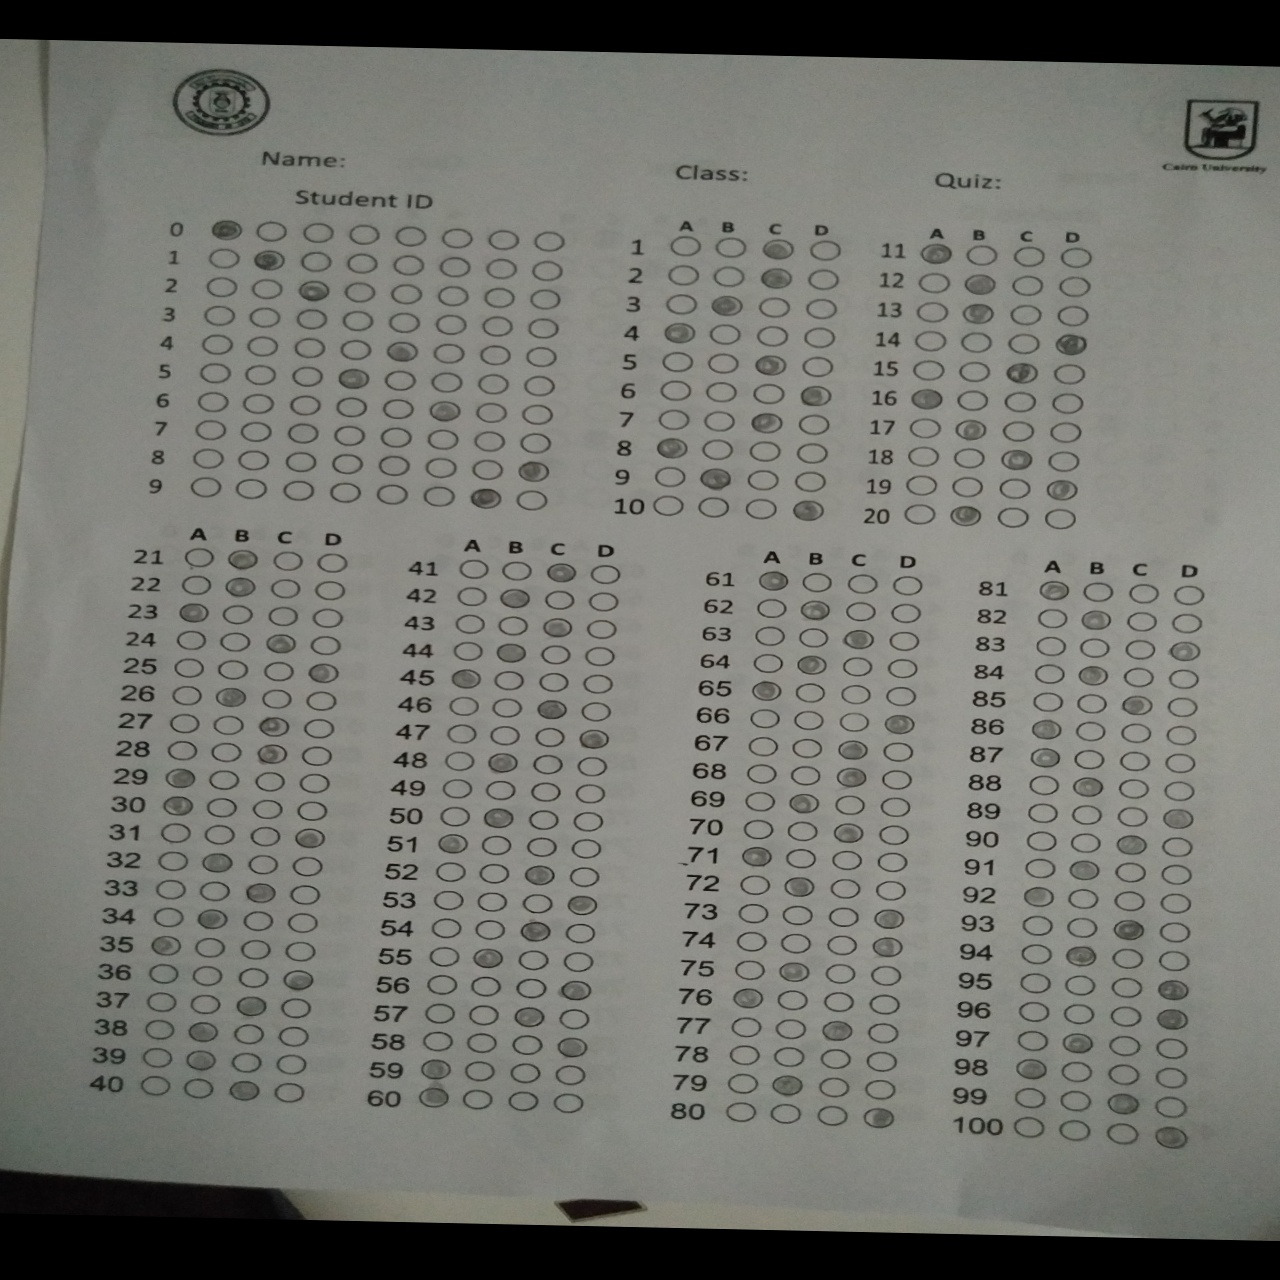not-c: (309, 551, 349, 576), (576, 700, 615, 724), (1056, 1088, 1094, 1114), (246, 275, 285, 300), (433, 284, 471, 308), (806, 237, 845, 261), (654, 407, 693, 431), (694, 493, 733, 518), (1053, 304, 1091, 328), (421, 456, 459, 481), (472, 372, 511, 396), (489, 667, 527, 692), (794, 625, 832, 649), (796, 571, 835, 595), (455, 556, 493, 580), (258, 659, 297, 683), (215, 629, 253, 654), (263, 604, 301, 628), (200, 275, 240, 299), (529, 229, 568, 252), (479, 285, 517, 309), (663, 292, 701, 316), (665, 263, 702, 287), (708, 264, 745, 288), (295, 250, 333, 274), (390, 224, 428, 248), (658, 379, 695, 403), (792, 441, 830, 465), (795, 411, 832, 436), (995, 476, 1033, 501), (949, 445, 987, 470), (1046, 420, 1083, 444), (1012, 243, 1049, 267), (962, 241, 1000, 266), (325, 481, 362, 505), (374, 482, 411, 506), (188, 475, 225, 499), (422, 428, 459, 452), (375, 427, 413, 451), (477, 313, 515, 338), (433, 312, 470, 336), (198, 332, 236, 356), (580, 644, 618, 668), (844, 571, 881, 595), (384, 311, 423, 334), (200, 304, 239, 327), (386, 281, 424, 305), (803, 267, 842, 291), (713, 236, 751, 259), (482, 257, 520, 280), (388, 253, 427, 277), (203, 246, 241, 270), (345, 222, 383, 245), (701, 409, 740, 433), (743, 440, 782, 463), (743, 468, 782, 491), (748, 382, 787, 406), (754, 324, 792, 347), (802, 297, 840, 320), (1005, 332, 1043, 355), (956, 331, 995, 354), (704, 350, 743, 374), (706, 322, 744, 346), (190, 447, 229, 470), (331, 425, 369, 449), (282, 422, 321, 445), (190, 417, 229, 441), (333, 395, 372, 418), (468, 457, 506, 481), (516, 431, 554, 455), (427, 369, 465, 393), (380, 368, 418, 392), (522, 345, 560, 368), (476, 343, 515, 367), (334, 338, 373, 361), (537, 642, 576, 666), (584, 590, 622, 613), (451, 584, 490, 607), (170, 655, 209, 679), (305, 634, 343, 658), (307, 606, 346, 629), (312, 579, 350, 602), (268, 549, 307, 572), (949, 475, 986, 499), (433, 256, 472, 278), (340, 252, 377, 275), (701, 381, 738, 404), (742, 497, 779, 520), (790, 470, 828, 493), (801, 326, 838, 349), (903, 503, 940, 526), (1042, 506, 1080, 530), (903, 444, 940, 468), (906, 416, 944, 440), (998, 420, 1035, 443), (1049, 392, 1087, 415), (1048, 363, 1085, 387), (1007, 302, 1044, 326), (913, 300, 951, 324), (1058, 245, 1096, 268), (915, 271, 953, 294), (524, 316, 561, 340), (279, 478, 316, 502), (422, 1001, 459, 1024), (375, 454, 413, 477), (234, 448, 272, 471), (236, 420, 273, 443), (238, 393, 275, 416), (286, 394, 324, 417), (195, 361, 232, 384), (519, 402, 557, 425), (472, 401, 510, 424), (519, 374, 557, 397), (429, 341, 467, 365), (244, 334, 281, 358), (536, 670, 573, 694), (580, 672, 618, 695), (583, 618, 620, 641), (885, 629, 922, 653), (886, 601, 924, 625), (840, 599, 878, 622), (587, 561, 625, 585), (497, 559, 535, 583), (219, 602, 257, 626), (267, 577, 305, 600), (251, 770, 288, 794), (572, 756, 610, 779), (441, 749, 478, 772), (503, 1089, 540, 1112), (564, 864, 601, 887), (149, 905, 186, 928), (282, 911, 320, 934), (813, 1075, 851, 1098), (864, 1022, 901, 1046), (659, 350, 697, 373), (335, 309, 374, 332), (290, 308, 328, 331), (244, 306, 282, 328), (482, 229, 520, 251), (297, 220, 335, 243), (697, 438, 736, 461), (797, 355, 836, 377), (903, 474, 941, 496), (911, 329, 949, 352), (326, 452, 365, 475), (420, 485, 458, 508), (239, 362, 278, 384), (447, 639, 485, 661), (177, 574, 216, 597), (178, 546, 217, 568), (651, 465, 687, 489), (1002, 390, 1039, 414), (751, 624, 788, 647), (281, 449, 318, 472), (195, 390, 231, 414), (471, 429, 508, 452), (542, 587, 578, 611), (450, 612, 486, 635), (200, 823, 237, 846), (158, 821, 195, 844), (163, 738, 199, 762), (568, 810, 605, 833), (444, 721, 481, 744), (509, 1033, 545, 1056), (462, 1058, 498, 1082), (508, 1062, 544, 1085), (556, 1008, 592, 1032), (559, 949, 595, 973), (471, 918, 508, 941), (428, 915, 464, 939), (137, 1074, 173, 1097), (139, 1017, 176, 1041), (189, 964, 225, 987), (195, 879, 231, 903), (151, 877, 188, 900), (1109, 1005, 1145, 1028), (1010, 1116, 1047, 1139), (765, 1101, 802, 1124), (728, 1015, 764, 1039), (1022, 830, 1058, 853), (1068, 803, 1104, 826), (878, 768, 914, 791), (743, 762, 779, 785), (1073, 748, 1109, 771), (1027, 772, 1063, 796), (874, 824, 911, 847), (1157, 863, 1193, 886), (1061, 974, 1097, 998), (823, 905, 859, 928), (1165, 667, 1201, 690), (1121, 665, 1157, 688), (1124, 610, 1160, 633), (1034, 606, 1070, 629), (340, 280, 377, 302), (525, 287, 563, 309), (527, 260, 565, 282), (649, 493, 687, 516), (756, 297, 794, 319), (994, 505, 1032, 527), (1044, 450, 1082, 472), (910, 360, 947, 382), (955, 361, 993, 383), (1008, 274, 1046, 297), (231, 478, 268, 501), (287, 363, 325, 386), (379, 397, 416, 420), (511, 489, 549, 511), (287, 336, 325, 359), (888, 576, 926, 598), (753, 597, 790, 619), (492, 614, 530, 636), (213, 658, 251, 680), (172, 628, 210, 651), (292, 799, 329, 822), (522, 835, 559, 857), (570, 783, 607, 805), (530, 726, 567, 748), (169, 685, 206, 707), (418, 1030, 456, 1053), (475, 862, 512, 884), (143, 990, 181, 1013), (277, 996, 314, 1019), (236, 938, 273, 960), (285, 884, 322, 906), (1013, 1029, 1050, 1051), (865, 993, 903, 1015), (733, 930, 770, 952), (830, 794, 867, 816), (1156, 921, 1193, 944), (1020, 914, 1057, 937), (206, 768, 241, 791), (526, 808, 561, 831), (437, 804, 472, 828), (209, 714, 244, 737), (459, 1087, 495, 1110), (272, 1051, 307, 1075), (234, 966, 270, 989), (240, 908, 275, 932), (424, 973, 459, 996), (1016, 1000, 1051, 1023), (1153, 1065, 1189, 1089), (1153, 1095, 1189, 1118), (1058, 1060, 1094, 1083), (864, 1049, 899, 1073), (867, 964, 903, 987), (776, 932, 811, 955), (748, 707, 783, 730), (745, 734, 781, 757), (1118, 722, 1153, 745), (1073, 721, 1108, 744), (742, 789, 777, 812), (828, 847, 863, 871), (873, 879, 908, 903), (1114, 888, 1149, 912), (1111, 947, 1146, 971), (828, 877, 863, 900), (1166, 611, 1201, 634), (1033, 634, 1068, 658), (668, 234, 704, 257), (438, 226, 475, 248), (954, 389, 990, 411), (246, 825, 282, 847), (248, 798, 285, 821), (207, 741, 244, 763), (477, 833, 513, 856), (483, 779, 519, 802), (527, 753, 564, 775), (485, 724, 522, 747), (489, 696, 525, 719), (299, 716, 335, 738), (256, 688, 292, 710), (467, 975, 503, 998), (462, 1032, 498, 1054), (552, 1064, 588, 1087), (549, 1091, 585, 1114), (425, 945, 462, 967), (561, 922, 598, 945), (518, 891, 554, 913), (474, 890, 510, 912), (430, 860, 467, 883), (178, 1077, 215, 1099), (271, 1081, 307, 1103), (139, 1046, 176, 1068), (229, 1023, 265, 1046), (185, 993, 222, 1015), (280, 940, 316, 962), (191, 937, 227, 959), (154, 850, 190, 872), (290, 855, 326, 877), (1021, 857, 1057, 879), (1107, 1063, 1143, 1085), (1012, 1085, 1048, 1108), (862, 1078, 898, 1101), (817, 1047, 853, 1069), (819, 990, 856, 1013), (822, 962, 858, 985), (823, 934, 859, 956), (723, 1101, 760, 1123), (791, 709, 828, 731), (877, 796, 913, 818), (879, 741, 915, 763), (1117, 805, 1153, 828), (1116, 750, 1152, 772), (1159, 779, 1196, 802), (742, 818, 778, 840), (1017, 942, 1054, 965), (1153, 949, 1190, 972), (1109, 978, 1145, 1000), (782, 847, 818, 870), (838, 655, 874, 678), (1075, 692, 1111, 714), (1165, 695, 1201, 717), (1121, 636, 1157, 659), (1124, 581, 1160, 604), (835, 709, 871, 731), (881, 685, 918, 707), (885, 658, 921, 680), (275, 1024, 309, 1048), (1017, 972, 1051, 995), (748, 651, 785, 672), (203, 797, 238, 819), (297, 772, 332, 795), (567, 836, 602, 858), (527, 781, 563, 803), (445, 694, 481, 716), (166, 712, 202, 734), (467, 1003, 502, 1026), (516, 948, 551, 971), (430, 888, 465, 911), (229, 1050, 264, 1073), (145, 962, 181, 985), (1063, 1003, 1098, 1026), (1107, 1034, 1142, 1056), (1058, 1121, 1094, 1143), (1104, 1123, 1139, 1145), (813, 1104, 849, 1126), (771, 1017, 806, 1040), (775, 989, 810, 1012), (731, 959, 767, 981), (727, 1044, 762, 1067), (726, 1071, 761, 1094), (1065, 832, 1101, 855), (1163, 726, 1198, 748), (1115, 778, 1150, 801), (783, 821, 818, 843), (873, 851, 908, 873), (1159, 837, 1194, 859), (1065, 888, 1101, 911), (1158, 893, 1193, 915), (1063, 915, 1098, 938), (779, 904, 815, 926), (737, 873, 772, 896), (1032, 662, 1067, 685), (1170, 584, 1205, 606), (1081, 580, 1116, 602), (790, 682, 825, 704), (253, 222, 290, 243), (1056, 275, 1092, 297), (299, 744, 335, 765), (512, 978, 549, 999), (245, 853, 281, 874), (1029, 690, 1065, 712), (736, 903, 772, 924), (1075, 636, 1111, 658), (440, 777, 474, 799), (1155, 1036, 1189, 1058), (1024, 802, 1058, 824), (1160, 750, 1194, 772), (787, 764, 821, 787), (1114, 862, 1148, 884), (302, 690, 338, 712), (771, 1046, 806, 1067), (787, 738, 822, 760), (838, 685, 873, 706)
taken-c: (747, 679, 784, 704), (869, 906, 907, 931), (1020, 883, 1056, 908), (520, 862, 557, 887), (761, 237, 798, 261), (384, 340, 422, 365), (755, 568, 792, 593), (788, 498, 825, 523), (946, 503, 983, 527), (908, 387, 946, 411), (1053, 332, 1090, 356), (447, 666, 484, 690), (1069, 774, 1107, 798), (797, 598, 835, 622), (1110, 917, 1148, 941), (828, 821, 865, 845), (184, 1020, 222, 1044), (182, 1048, 219, 1073), (470, 945, 508, 969), (565, 892, 602, 917), (858, 1105, 896, 1130), (767, 1073, 804, 1097), (775, 959, 812, 983), (1103, 1091, 1141, 1116), (1155, 978, 1192, 1002), (263, 632, 300, 656), (758, 265, 795, 290), (297, 278, 333, 302), (695, 467, 731, 491), (750, 352, 787, 376), (478, 806, 515, 831), (553, 1034, 590, 1058), (729, 987, 765, 1012), (1153, 1007, 1190, 1032), (220, 574, 257, 599), (796, 383, 833, 407), (660, 320, 697, 343), (998, 448, 1035, 471), (952, 417, 989, 441), (787, 791, 824, 815), (577, 727, 614, 750), (533, 697, 571, 721), (490, 641, 527, 665), (496, 586, 533, 610), (542, 560, 579, 584), (1074, 663, 1111, 687), (738, 845, 776, 869), (1067, 858, 1104, 881), (433, 832, 470, 856), (279, 969, 316, 993), (230, 994, 267, 1017), (515, 920, 552, 944), (1060, 1032, 1097, 1055), (1062, 944, 1099, 967), (781, 874, 818, 898), (252, 742, 290, 765), (162, 765, 199, 789), (336, 366, 372, 390), (881, 712, 917, 736), (1078, 607, 1114, 632), (821, 1019, 856, 1043), (256, 714, 291, 738), (207, 218, 244, 241), (515, 459, 551, 483), (425, 399, 462, 422), (248, 248, 285, 272), (750, 411, 787, 435), (1044, 478, 1081, 502), (1003, 361, 1040, 384), (959, 301, 995, 325), (708, 293, 744, 316), (918, 240, 954, 264), (1114, 833, 1150, 857), (835, 738, 871, 762), (483, 750, 519, 774), (1030, 745, 1067, 769), (1165, 639, 1201, 662), (1036, 579, 1073, 602), (795, 653, 831, 676), (239, 880, 275, 904), (193, 906, 230, 930), (147, 934, 183, 958), (414, 1085, 450, 1109), (416, 1057, 452, 1081), (513, 1003, 550, 1027), (557, 978, 593, 1001), (869, 934, 905, 958), (1151, 1125, 1187, 1149), (1013, 1056, 1049, 1080), (305, 661, 341, 685), (211, 685, 247, 708), (159, 794, 196, 817), (292, 826, 328, 850), (198, 851, 234, 874), (467, 486, 504, 509), (652, 437, 689, 459), (173, 600, 211, 622), (225, 547, 263, 570), (964, 272, 999, 295), (1160, 806, 1196, 830), (833, 764, 869, 788), (1030, 717, 1065, 741), (1121, 693, 1156, 716), (539, 617, 576, 639), (839, 628, 876, 651), (227, 1080, 263, 1102)
